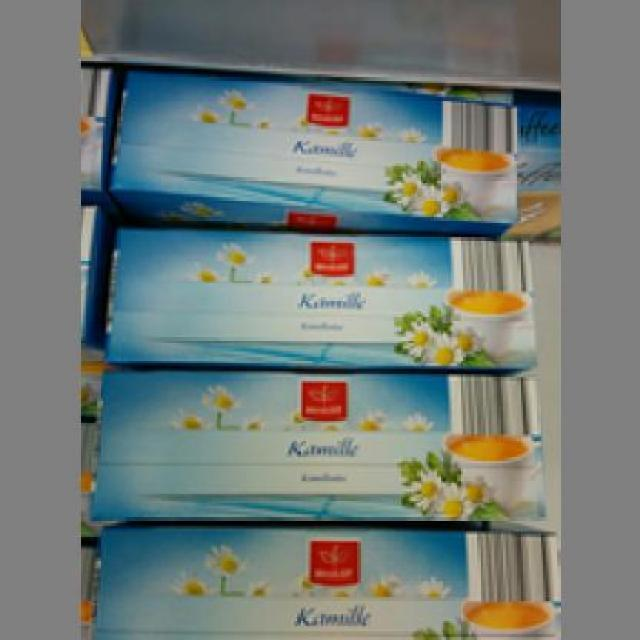Tea: (83, 366, 543, 526), (100, 65, 520, 232), (102, 216, 538, 372), (94, 517, 552, 637)
